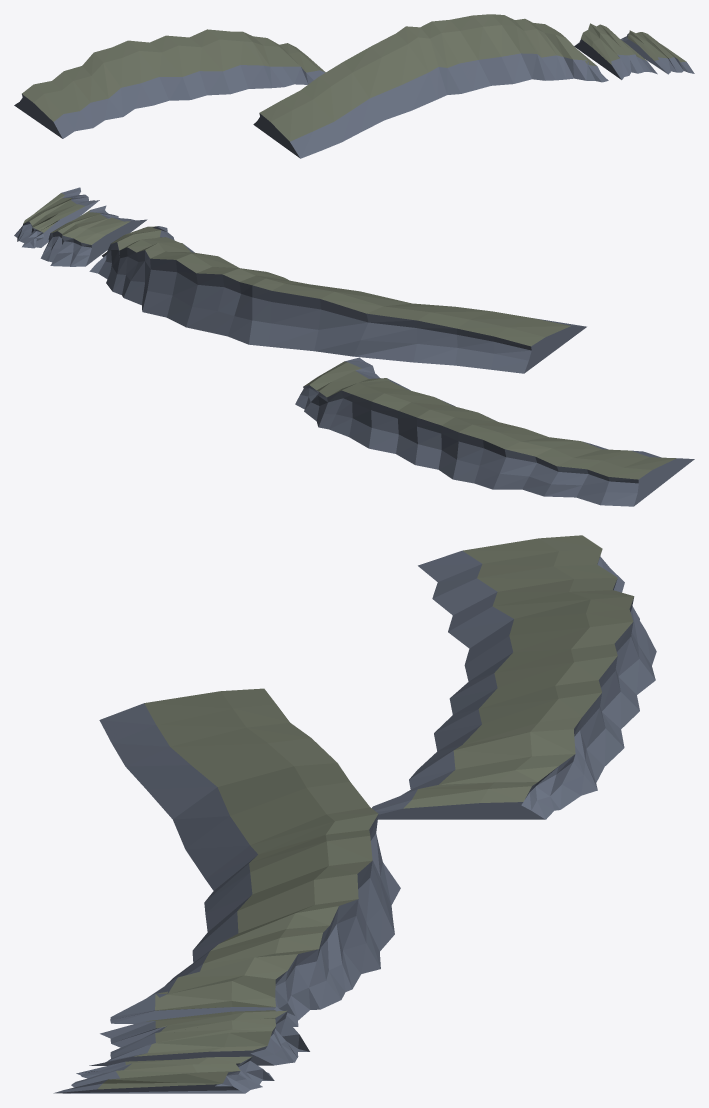
File: distant-coast.glb
The picture shows the model from 3 angles, top to bottom: view 1: azimuth 30°, elevation 25°; view 2: azimuth 150°, elevation 25°; view 3: azimuth 270°, elevation 25°; orthographic projection. The views are drawn at different scales.
Visible parts, largest first — view 1: Offshore coastal strata | provisional; view 2: Offshore coastal strata | provisional; view 3: Offshore coastal strata | provisional.
Part boxes in pixels (bbox=[...]): Offshore coastal strata | provisional: bbox=[14, 14, 694, 158]; Offshore coastal strata | provisional: bbox=[14, 187, 694, 506]; Offshore coastal strata | provisional: bbox=[53, 535, 656, 1093].
Size of the model in its own units: 107 by 7.35 by 51.31.
